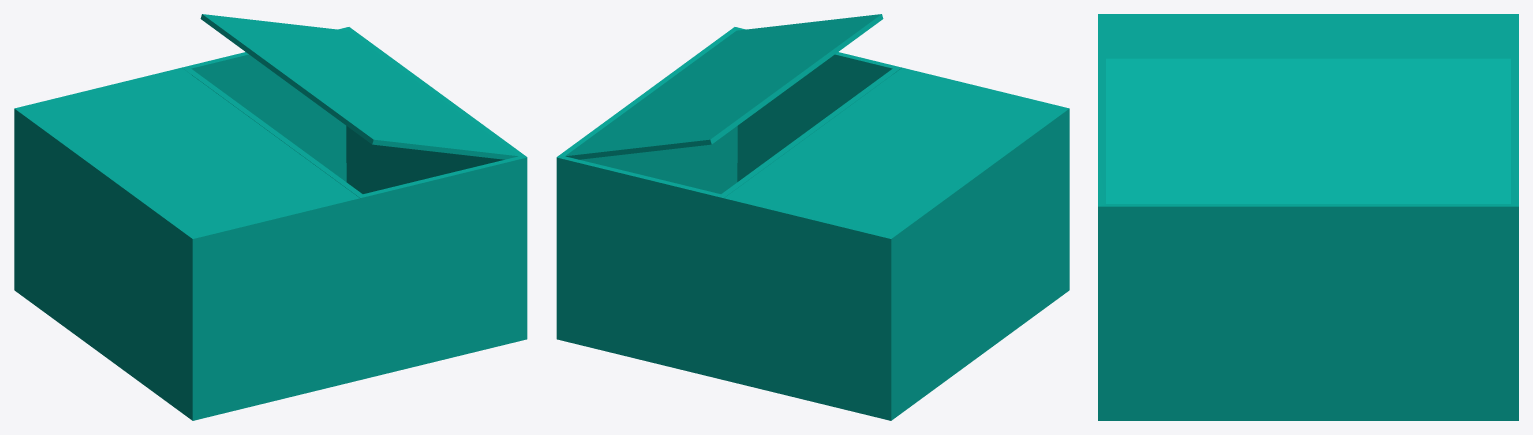
File: caixaoberta.FBX
The picture shows the model from 3 angles, left to right: view 1: azimuth 30°, elevation 25°; view 2: azimuth 150°, elevation 25°; view 3: azimuth 270°, elevation 25°; orthographic projection. The views are drawn at different scales.
Visible parts, largest first — view 1: Object001; view 2: Object001; view 3: Object001.
Part boxes in pixels (bbox=[...]): Object001: bbox=[14, 14, 527, 420]; Object001: bbox=[556, 14, 1069, 420]; Object001: bbox=[1098, 14, 1518, 420].
Bounding box in the file's own units: 56.67 × 37.82 × 52.32.
